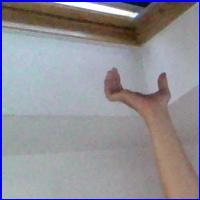space: (99, 63, 176, 112)
